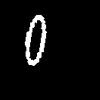chain: (25, 15, 46, 65)
